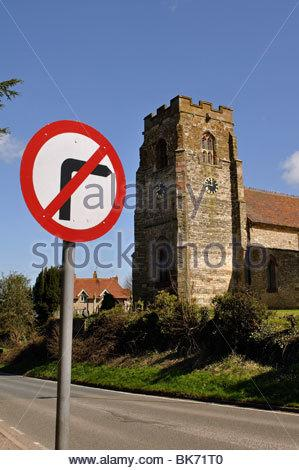no_right_turn: (18, 119, 125, 243)
